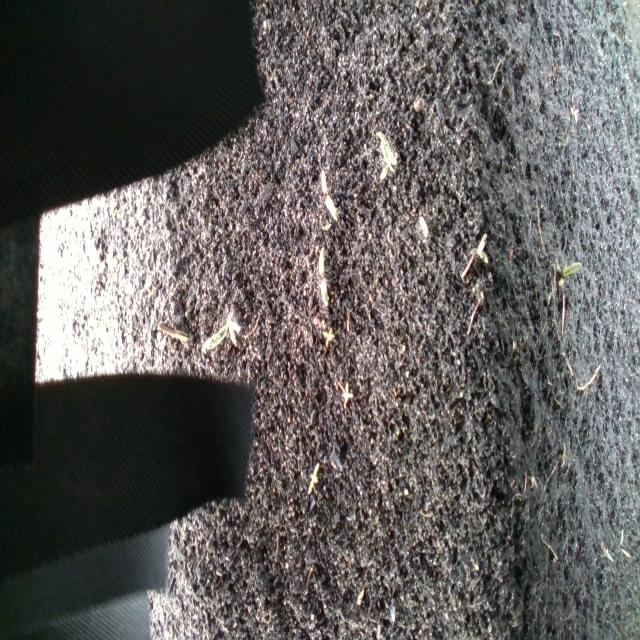weed: (469, 225, 498, 271), (558, 250, 586, 282), (318, 327, 342, 357), (337, 378, 353, 412)
